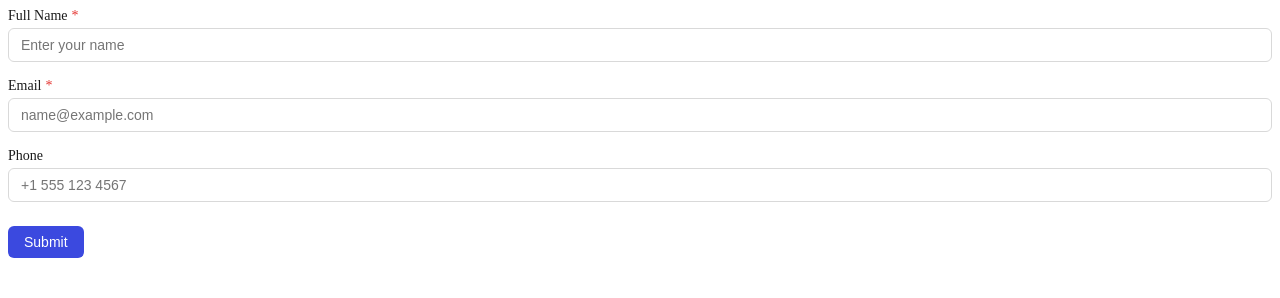
Scenario: components/molecules/form/Form › shows email validation error for invalid email
In the field labelled "Full Name*": [640, 45] box 8,28 -> 1272,62, type "John"
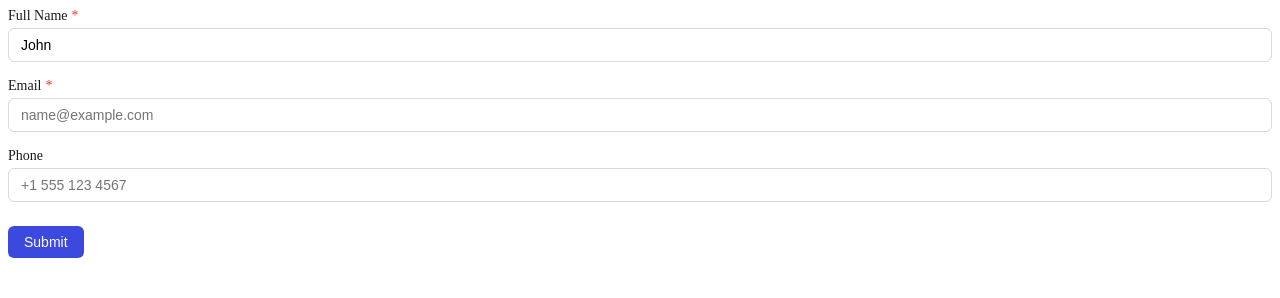
In the field labelled "Email*": [640, 115] box 8,98 -> 1272,132, type "invalid-email"
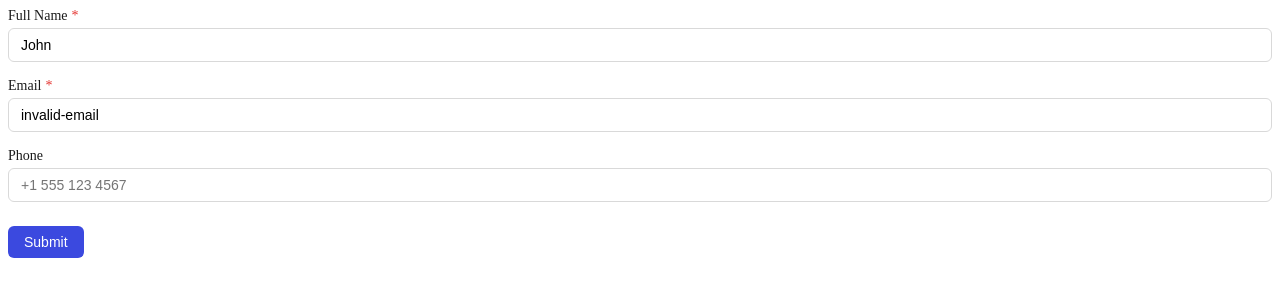
Click the button "Submit": [46, 242] box 8,226 -> 84,258
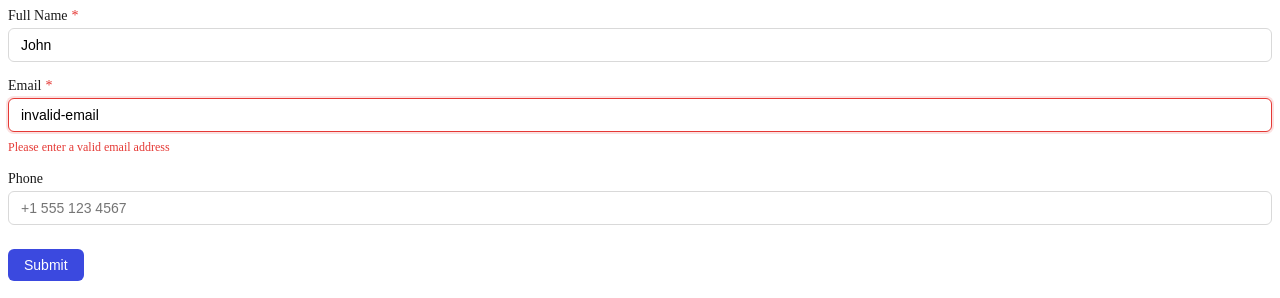
expect the text "Please enter a valid email address" is shown: met, box 8,140 -> 170,154
